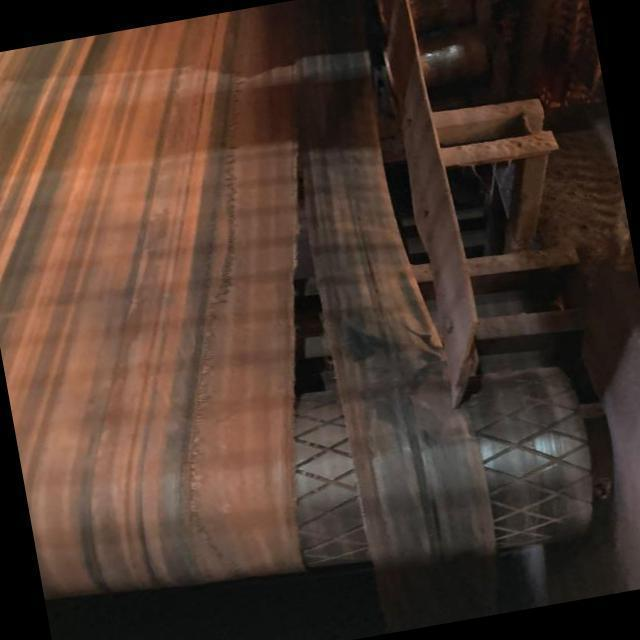Tear: (276, 115, 388, 578)
